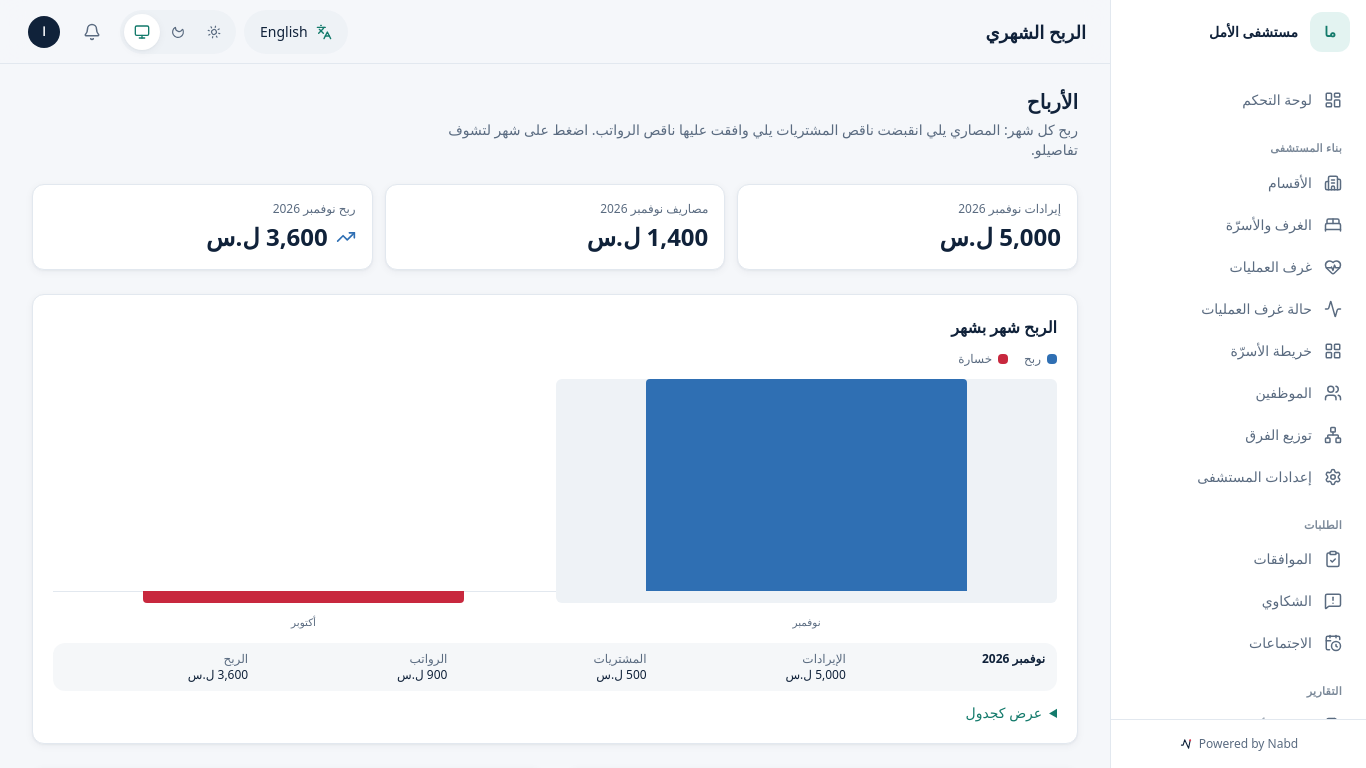
ProfitPage (task 4.18) › shows the latest month, the bars, and a month’s detail when chosen
This screenshot has width=1366, height=768.
Expected: the 1st text "3,600 ل.س" is shown, x1=206 y1=221 x2=328 y2=253
Click the 7th button at (304, 597), box x1=53 y1=379 x2=554 y2=603
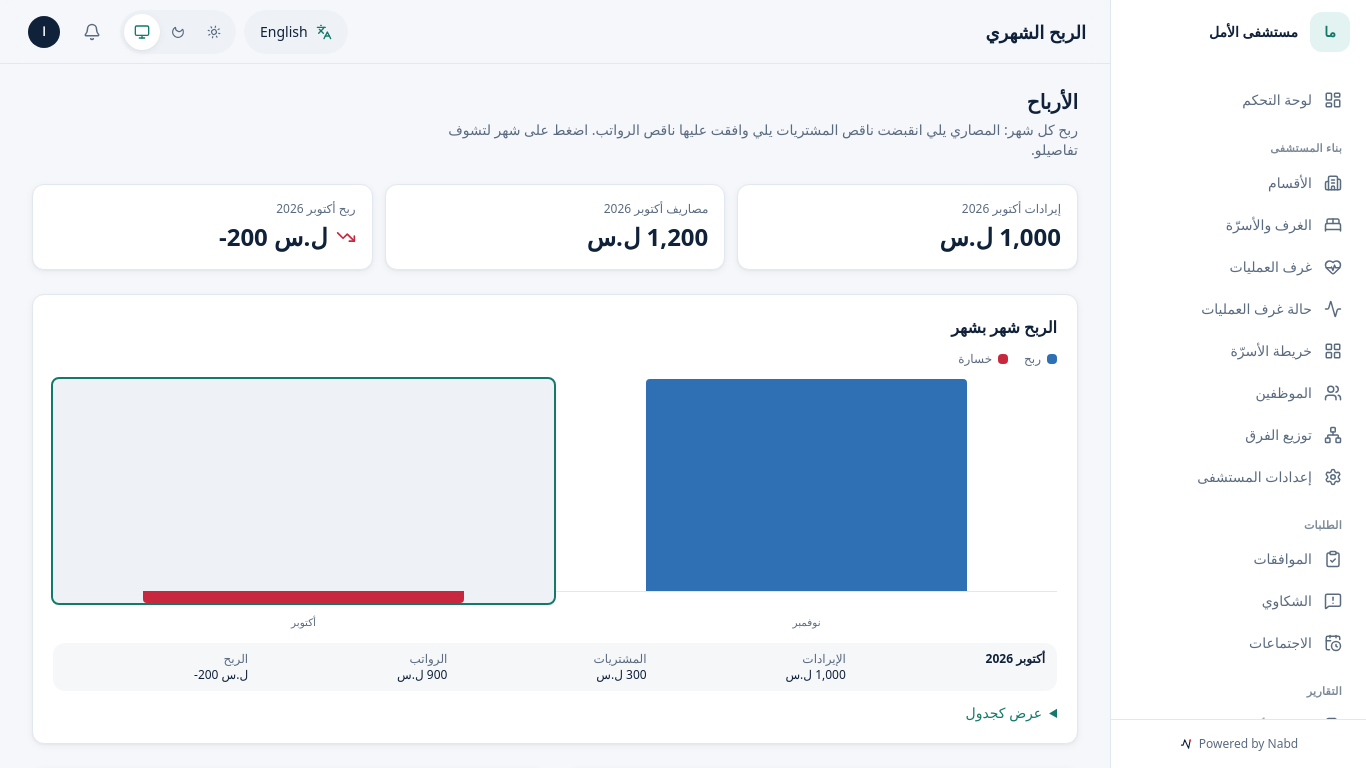
Result: the text "1,200 ل.س" is shown at x1=587 y1=221 x2=708 y2=253
